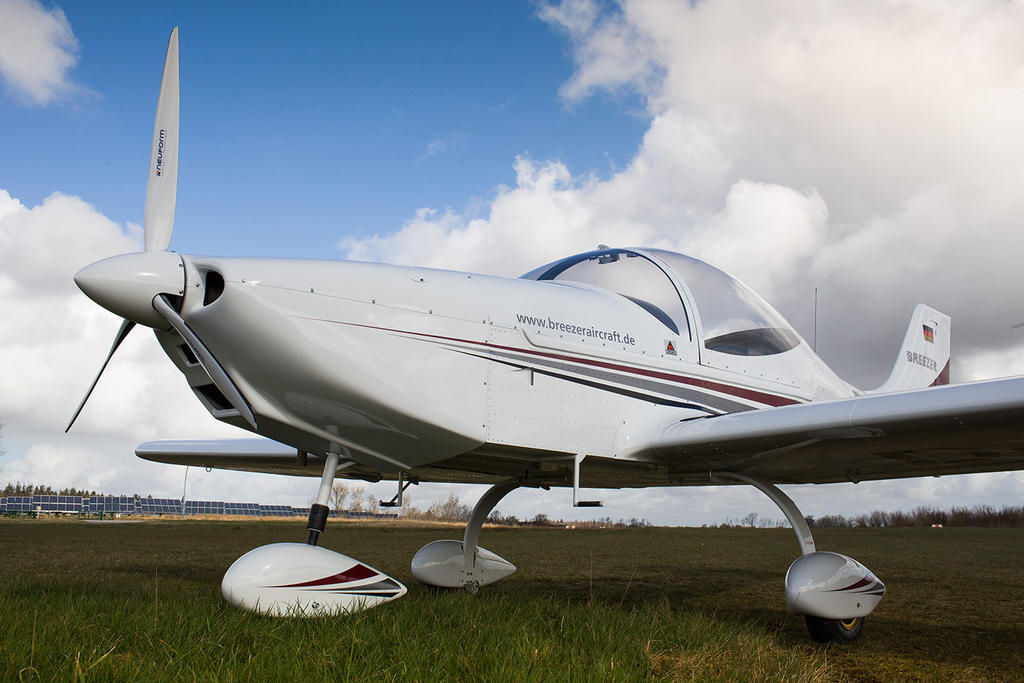Aeronef_de_loisir: (38, 12, 1024, 660)
